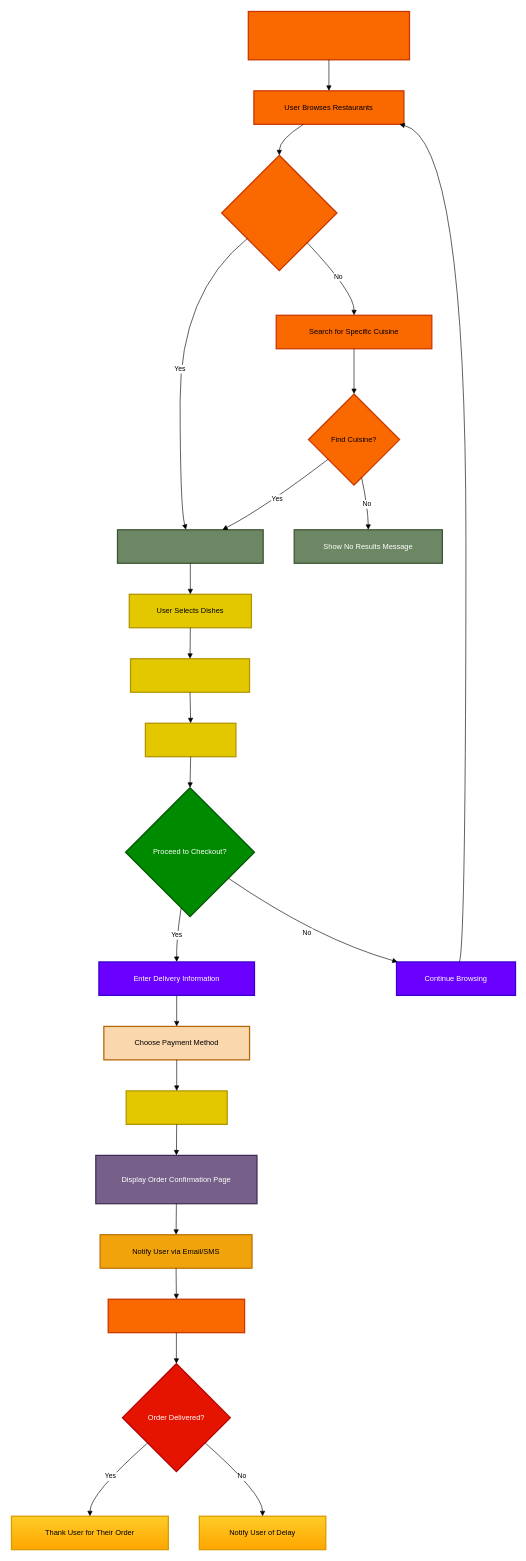
The diagram is 526 pixels wide and 1561 high, and some of its shapes have lost their labels. The shapes that lost their labels are listed below. From the top down, each one's centre as x and y in pixels, then its label:
point 328,35: User Visits Food Delivery Website
point 279,212: Select Restaurant?
point 190,546: Display Restaurant Menu
point 190,675: Add Dishes to Cart
point 190,739: Review Cart
point 176,1107: Confirm Order
point 176,1315: Order Out for Delivery
